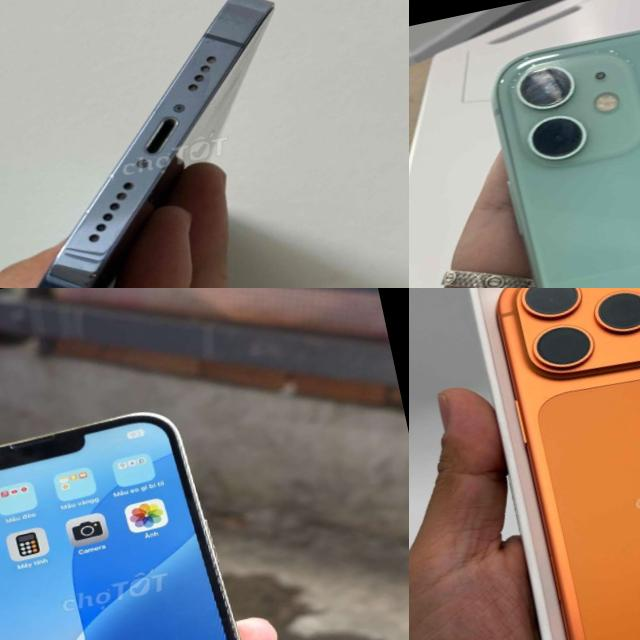gen_11: (467, 0, 640, 288)
gen_12_13: (0, 0, 381, 288), (0, 394, 311, 640)
gen_17: (478, 288, 640, 640)
